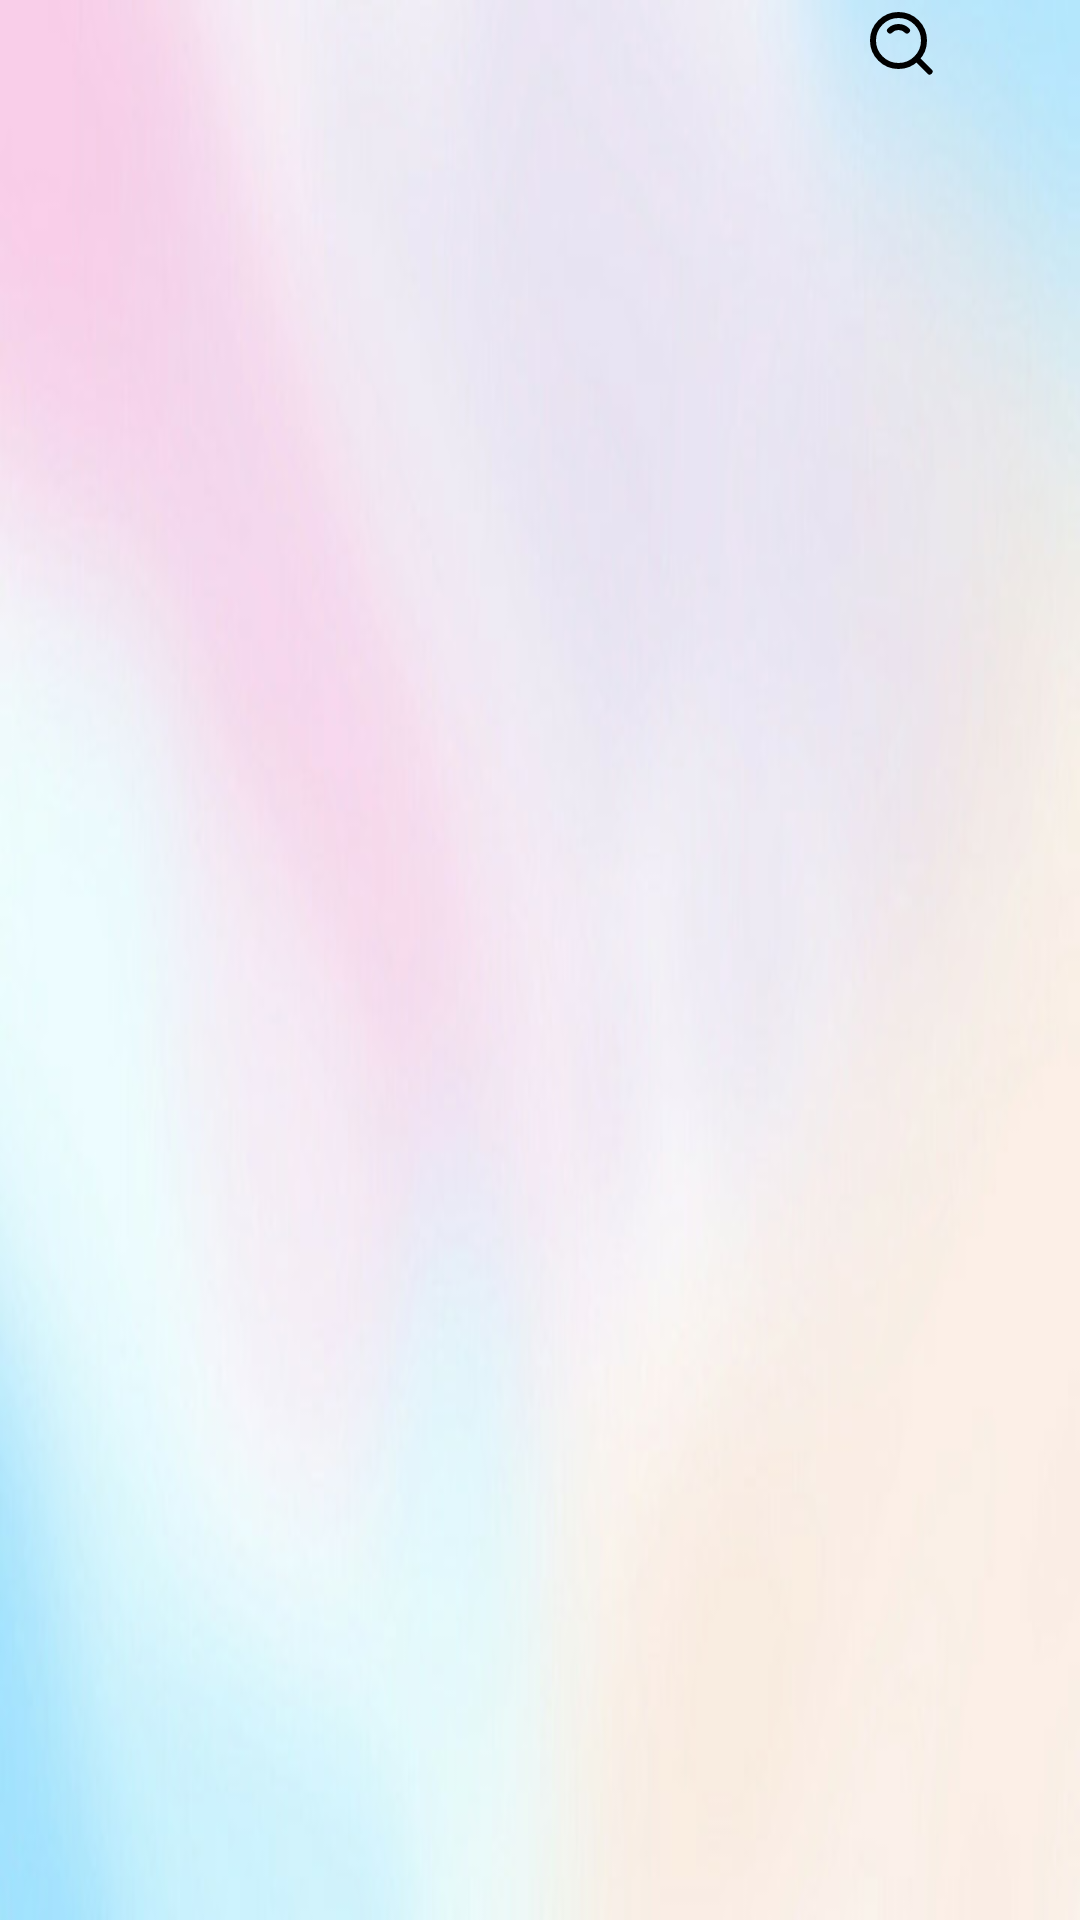

Where icons sit on this 1080x1920 app screen, as (x1, y1, x2, y2):
search: (870, 12, 933, 75)
